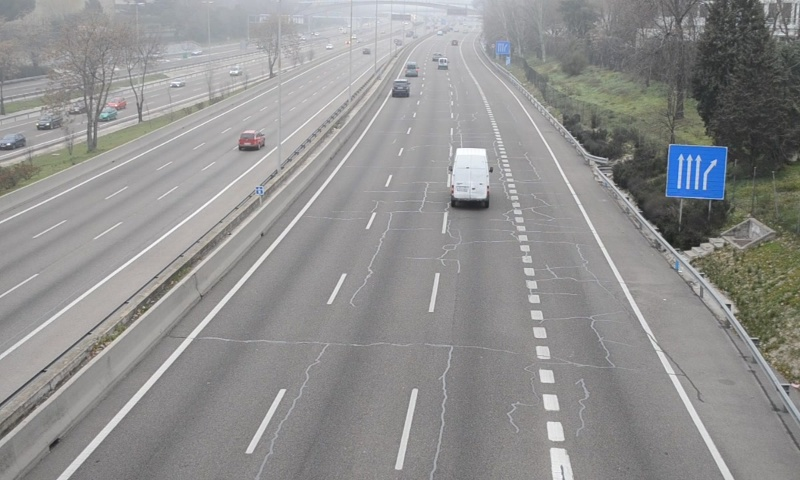car: (391, 78, 410, 98)
van: (450, 148, 490, 207), (404, 61, 418, 78)
